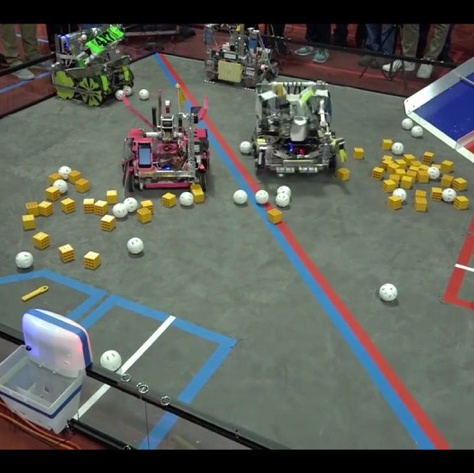robot: (243, 78, 345, 183), (120, 94, 214, 199), (46, 23, 134, 107), (197, 21, 281, 93)
